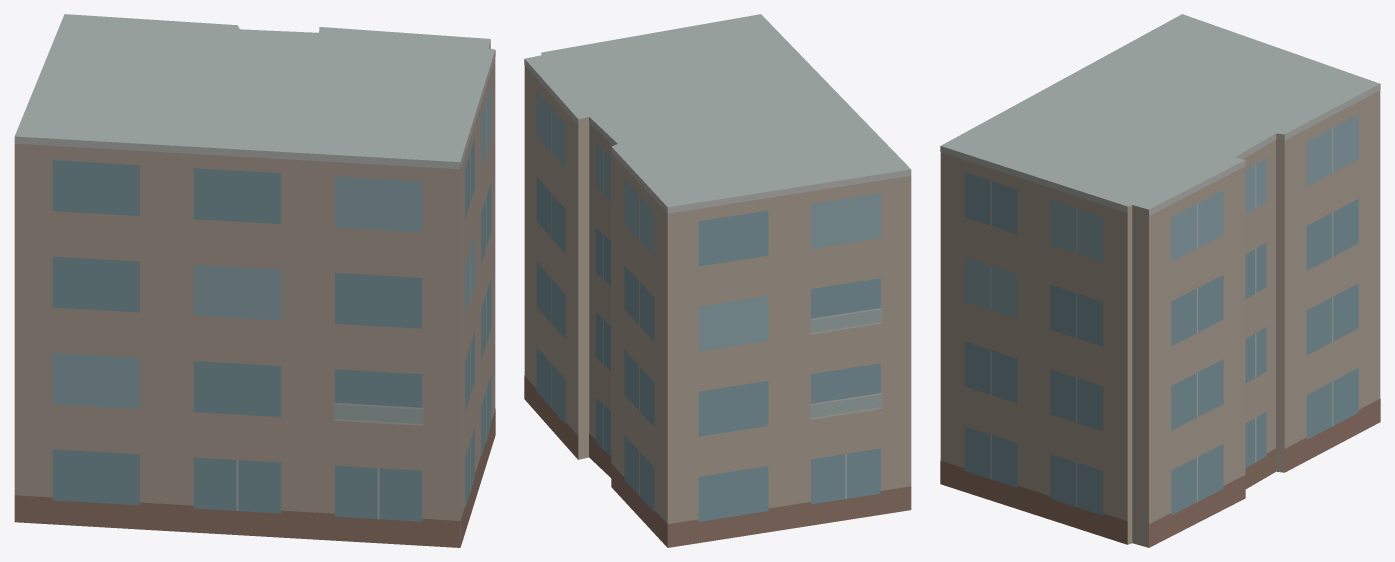
The model's file is survey-upis-32635607.glb.
3 renders of one model, left to right at view 1: azimuth 30°, elevation 25°; view 2: azimuth 150°, elevation 25°; view 3: azimuth 270°, elevation 25°, orthographic. The views are drawn at different scales.
Parts seen in each view (by area): view 1: survey-upis-32635607.tmp; view 2: survey-upis-32635607.tmp; view 3: survey-upis-32635607.tmp.
Part boxes in pixels (x1,y1,x2,y2): survey-upis-32635607.tmp: [14, 14, 495, 547]; survey-upis-32635607.tmp: [524, 14, 911, 547]; survey-upis-32635607.tmp: [940, 14, 1380, 547].
Size of the model in its own units: 16.38 by 13.2 by 15.57.
